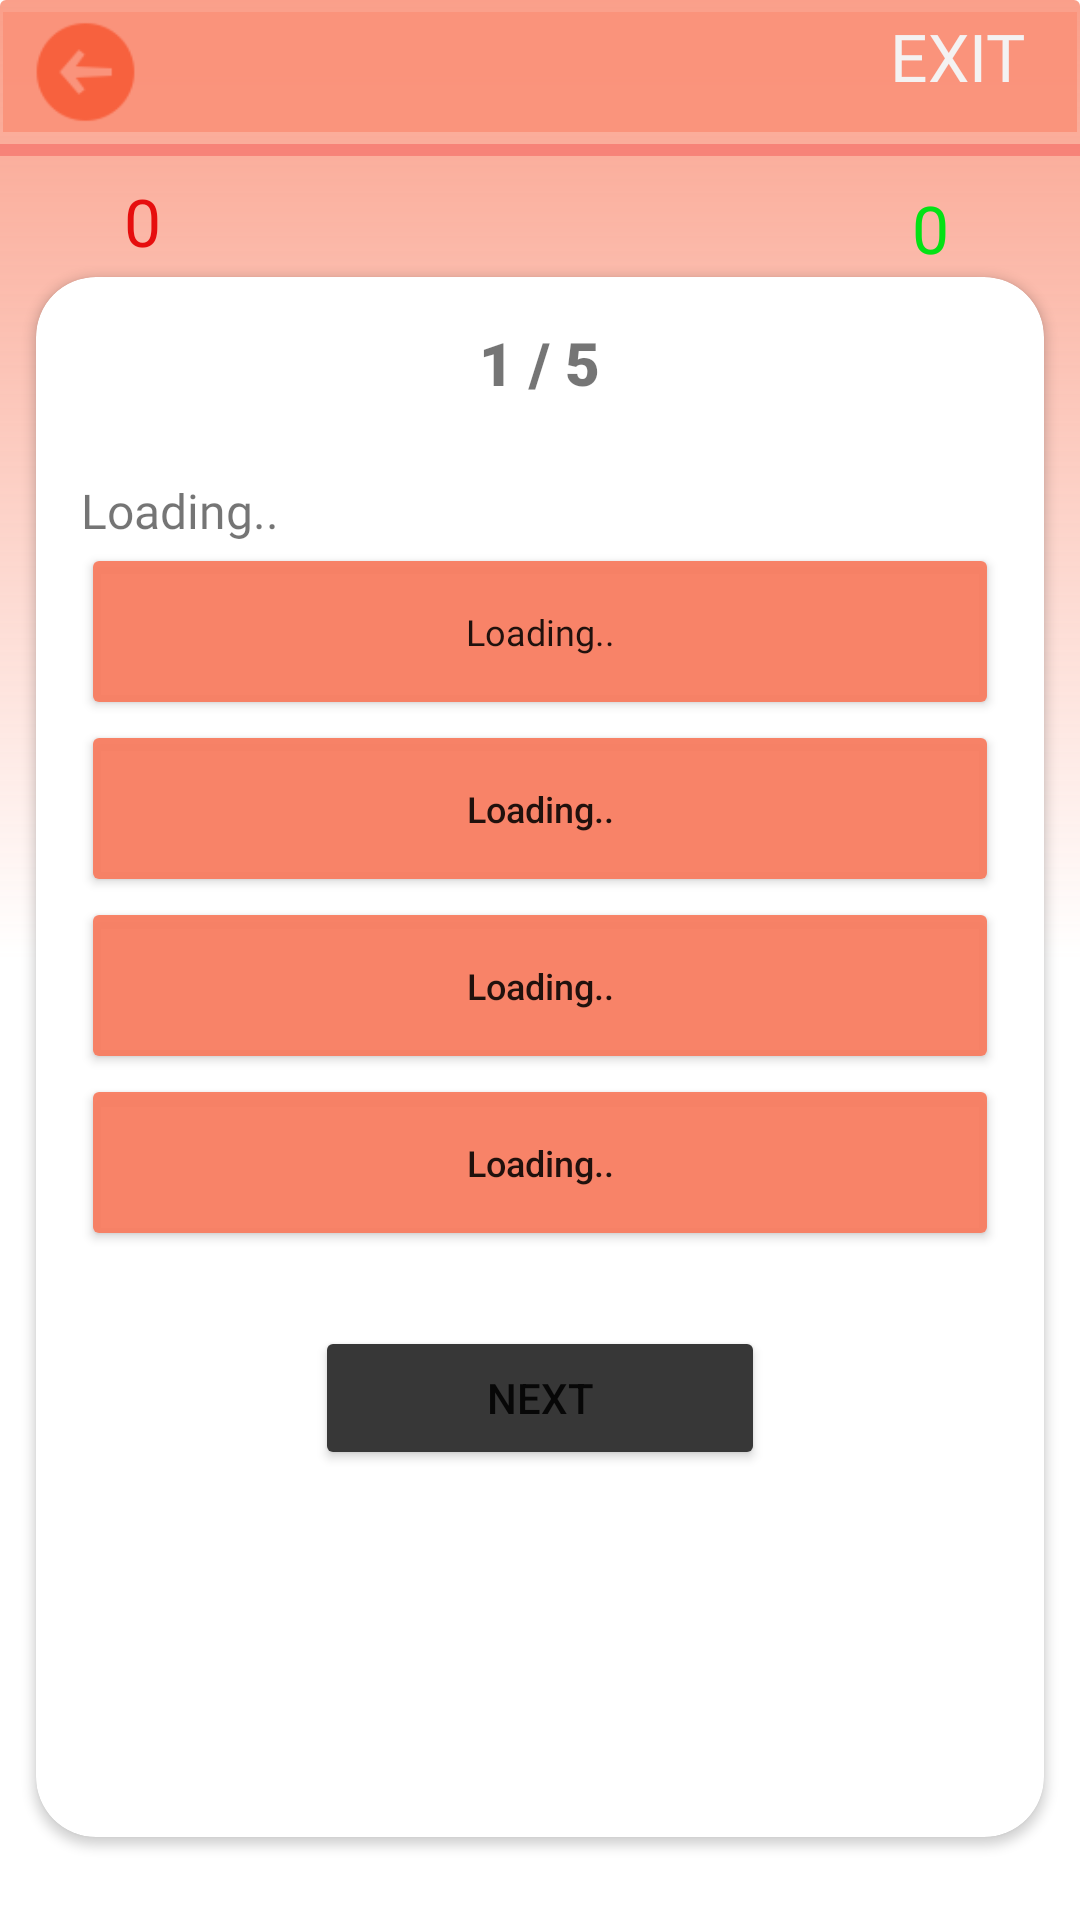

Screen size 1080px×1920px. Icon name, then its box in pixels as box=[x1, y1, x2, y2]:
back: box=[3, 12, 168, 132]
